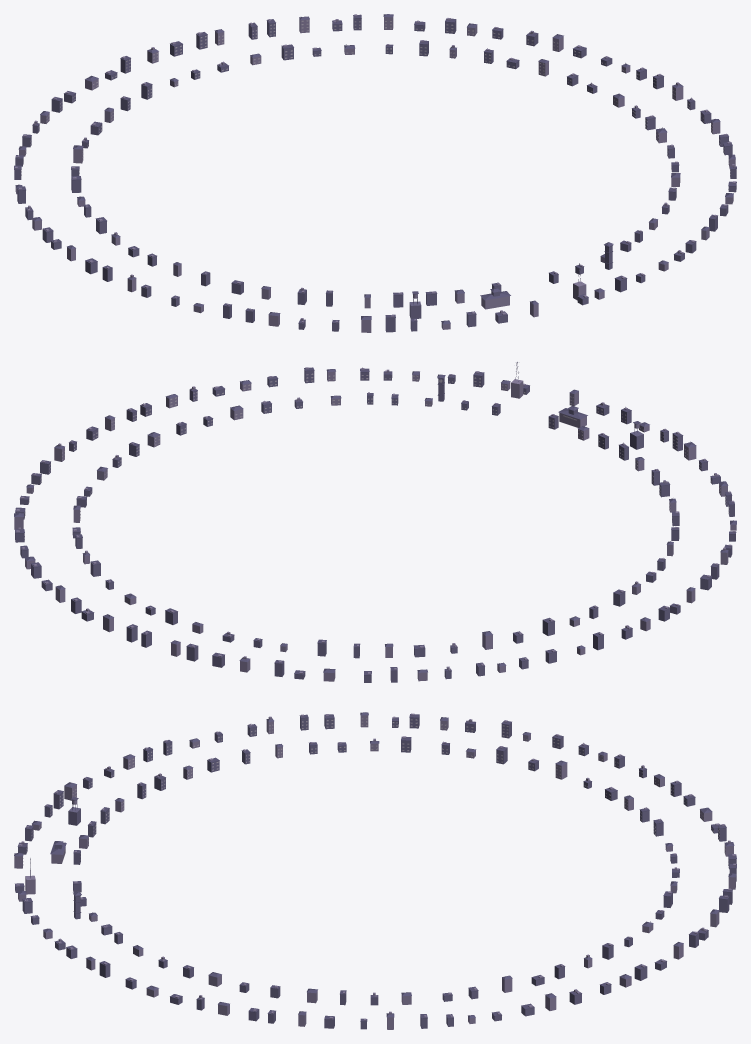
File: TownSilhouette.obj
The picture shows the model from 3 angles, top to bottom: view 1: azimuth 30°, elevation 25°; view 2: azimuth 150°, elevation 25°; view 3: azimuth 270°, elevation 25°; orthographic projection.
Visible parts, largest first — view 1: TownSilhouette_TownNear, TownSilhouette_TownMid, TownSilhouette_Roof, TownSilhouette_Window; view 2: TownSilhouette_TownNear, TownSilhouette_TownMid, TownSilhouette_Roof, TownSilhouette_Window; view 3: TownSilhouette_TownNear, TownSilhouette_TownMid, TownSilhouette_Roof, TownSilhouette_Window.
Boxes of the visible parts, x1,y1,x2,y2 form: TownSilhouette_TownNear: [14, 18, 736, 332]; TownSilhouette_TownMid: [15, 14, 735, 332]; TownSilhouette_Roof: [14, 14, 736, 324]; TownSilhouette_Window: [21, 20, 730, 189]; TownSilhouette_TownNear: [15, 370, 735, 682]; TownSilhouette_TownMid: [14, 367, 736, 681]; TownSilhouette_Roof: [14, 362, 736, 675]; TownSilhouette_Window: [24, 373, 729, 539]; TownSilhouette_TownNear: [15, 716, 736, 1029]; TownSilhouette_TownMid: [14, 713, 735, 1029]; TownSilhouette_Roof: [14, 712, 736, 1021]; TownSilhouette_Window: [23, 718, 728, 866].
Bounding box in the file's own units: 542 × 29.01 × 542.
